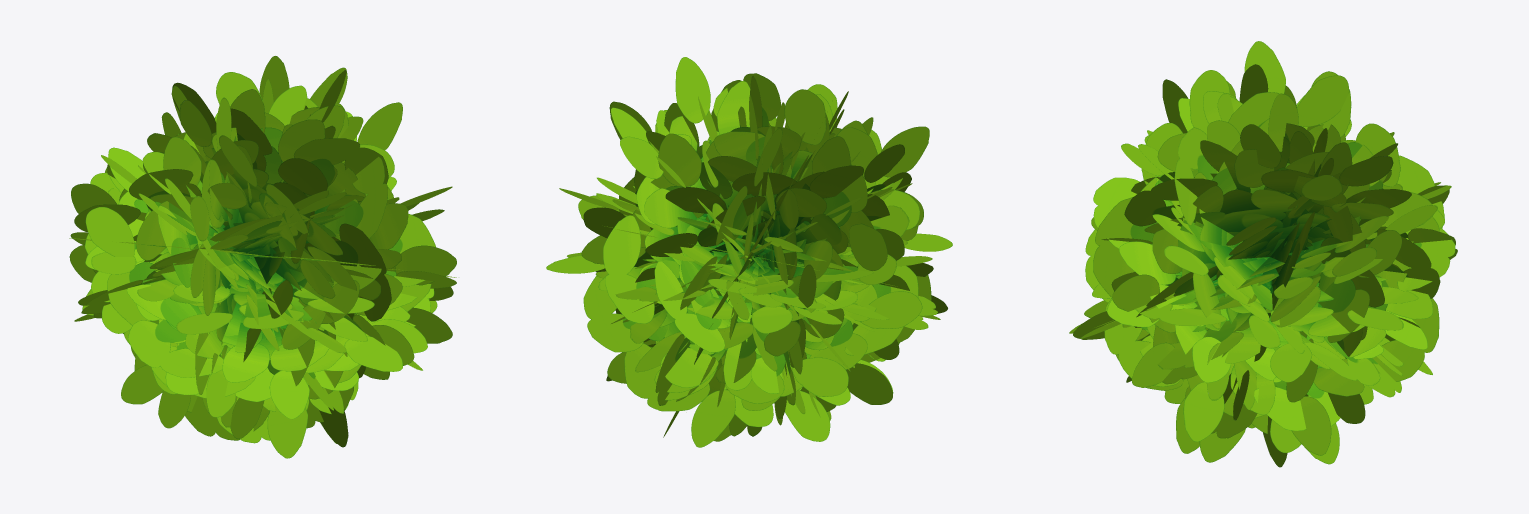
The model's file is bush.fbx.
3 renders of one model, left to right at view 1: azimuth 30°, elevation 25°; view 2: azimuth 150°, elevation 25°; view 3: azimuth 270°, elevation 25°, orthographic.
Visible parts, largest first — view 1: Bush; view 2: Bush; view 3: Bush.
Boxes of the visible parts, x1=… form: Bush: x1=69, y1=56, x2=456, y2=458; Bush: x1=546, y1=57, x2=952, y2=447; Bush: x1=1069, y1=41, x2=1457, y2=467.
Size of the model in its own units: 1.41 by 1.39 by 1.4.
